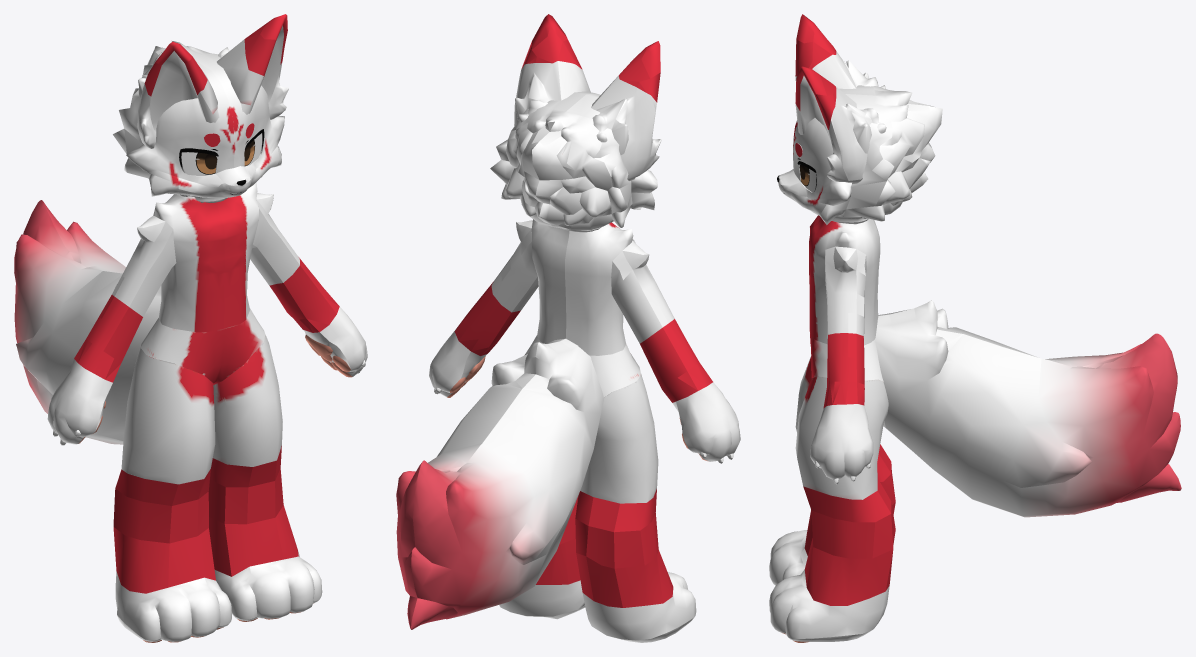
File: confundido_con_cola.glb
The picture shows the model from 3 angles, left to right: view 1: azimuth 30°, elevation 25°; view 2: azimuth 150°, elevation 25°; view 3: azimuth 270°, elevation 25°; orthographic projection. The views are drawn at different scales.
Parts seen in each view (by area): view 1: confundido; view 2: confundido; view 3: confundido.
Boxes of the visible parts, bbox=[...] form: confundido: bbox=[14, 14, 367, 642]; confundido: bbox=[396, 14, 740, 642]; confundido: bbox=[769, 14, 1181, 642].
Size of the model in its own units: 3.33 by 6.1 by 4.02.
2 materials, 1 textured.
